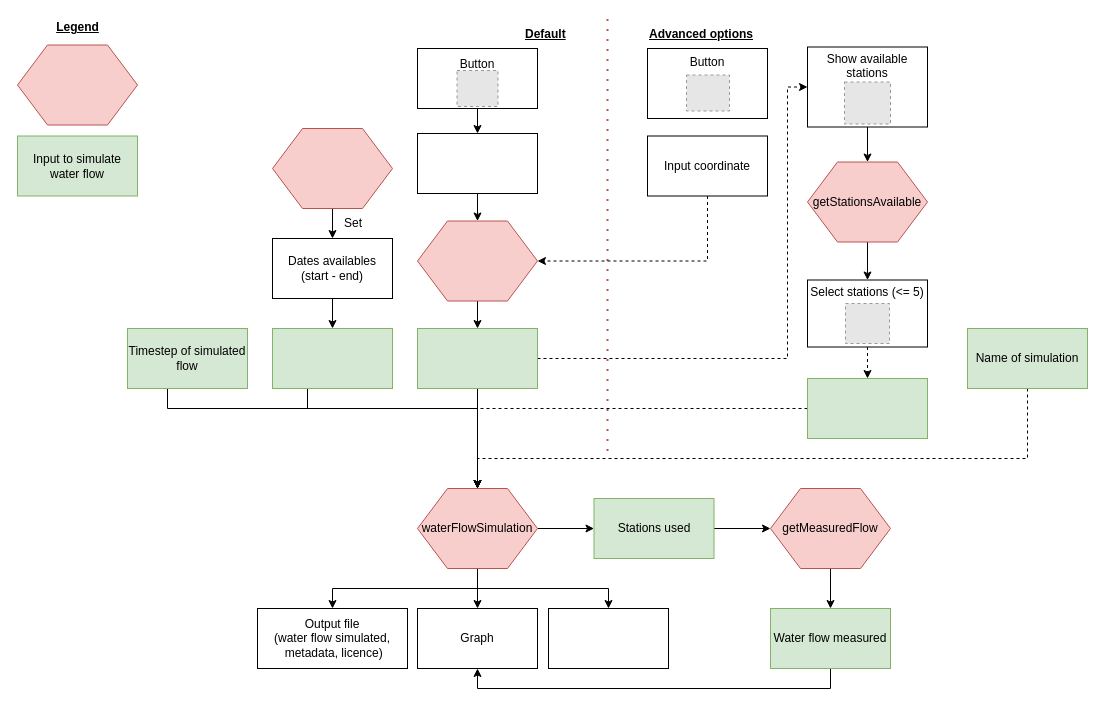
Image size: 1105x714. Some labels were removed from this diagram. Grey dashed boxes stand in for pictures. Each missing label, with the centre of its shape:
Click on viewer (map): point (477, 163)
Coordinate of simulated outlet: point (477, 358)
Function service web: point (77, 84)
getPeriod (automatic): point (332, 168)
Period selected (start - end): point (332, 358)
Stations selected: point (867, 408)
Watersheds: point (608, 638)
xyOnNetwork: point (477, 260)
